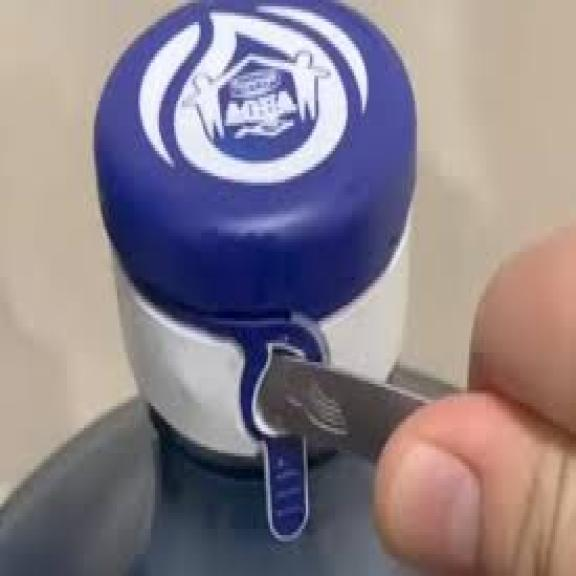Plastik: (92, 0, 419, 548)
